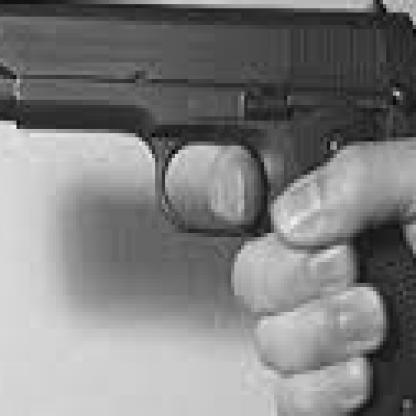gun: (0, 0, 413, 412)
